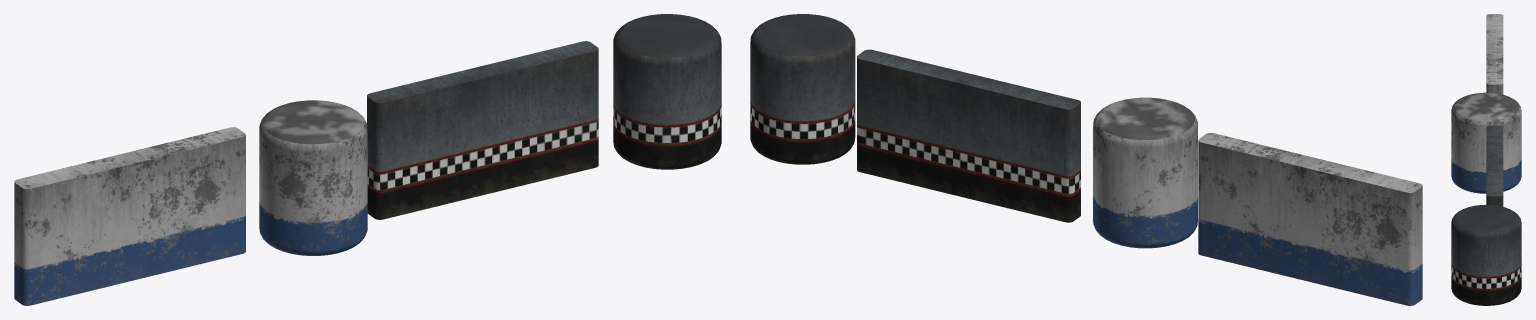
File: wall_materials_thas.glb
The picture shows the model from 3 angles, left to right: view 1: azimuth 30°, elevation 25°; view 2: azimuth 150°, elevation 25°; view 3: azimuth 270°, elevation 25°; orthographic projection. The views are drawn at different scales.
Bounding box in the file's own units: 6.18 × 1 × 0.8434.
Materials: 2 (2 with a texture image).
